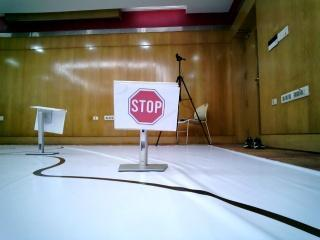stop: (116, 85, 177, 129)
